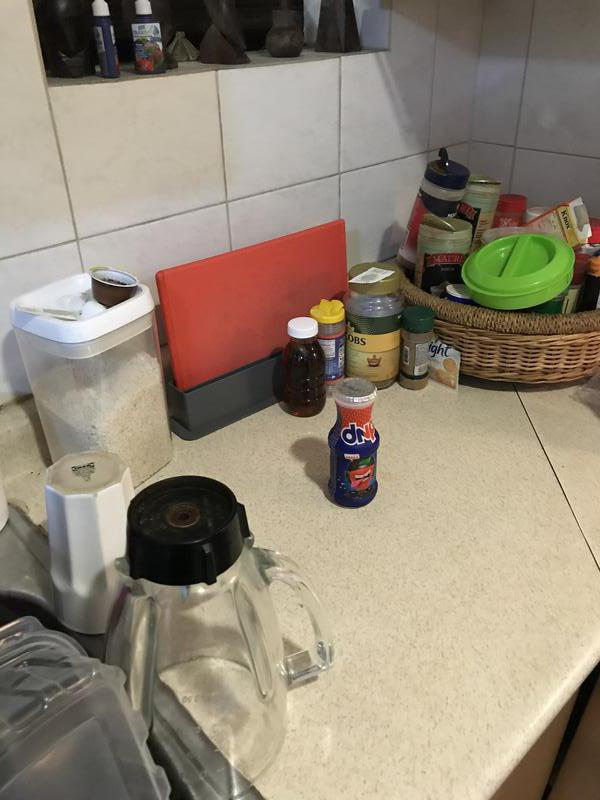danup: (325, 377, 381, 509)
